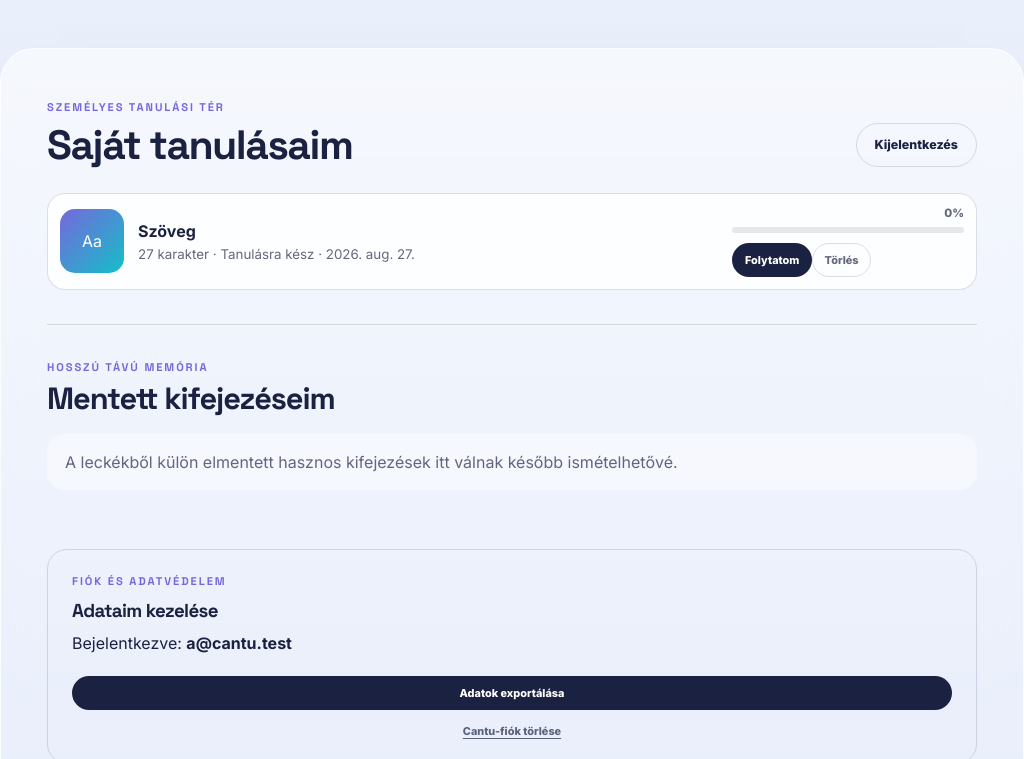
Test: AccountSection generalized history › shows metadata but never a source excerpt, and offers confirmed deletion
Expected: the text "Szöveg" is shown, [138,221,196,241]
Expected: the text "27 karakter · Tanulásra kész · 2026. aug. 27." is shown, [138,246,415,262]
Click the button "Törlés" at point(842, 260), box [812,243,871,277]
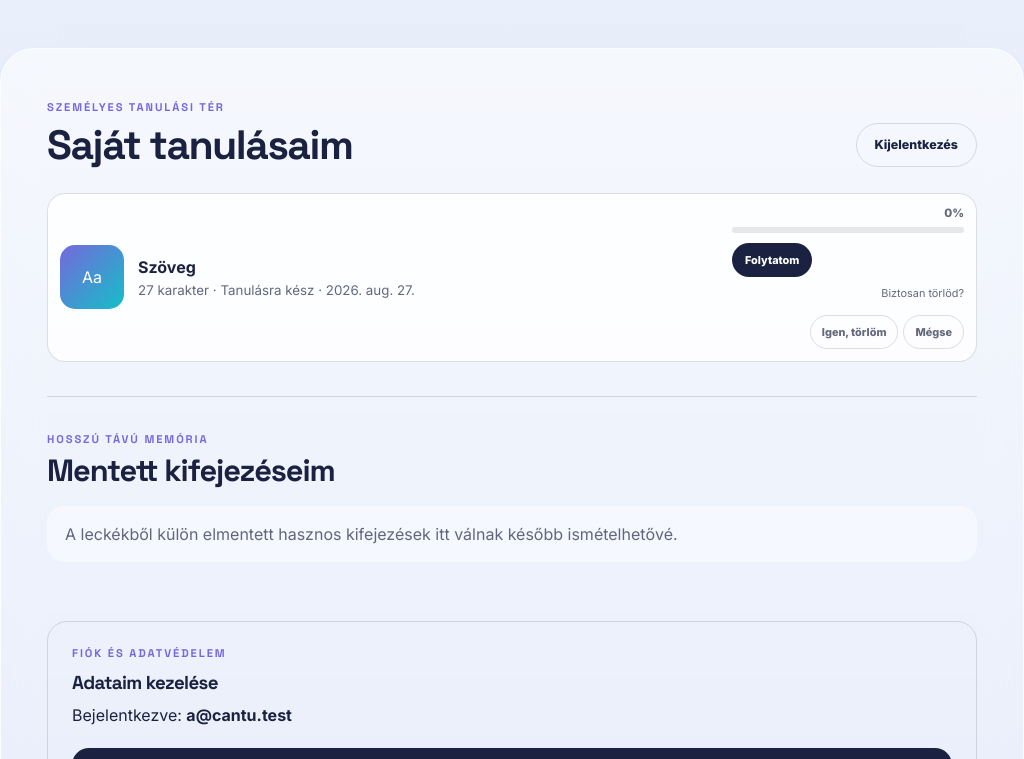
Result: the text "Biztosan törlöd?" is shown at [881,286,964,300]
Result: the button "Igen, törlöm" is shown at [810,315,898,349]
Result: the button "Mégse" is shown at [904,315,964,349]
